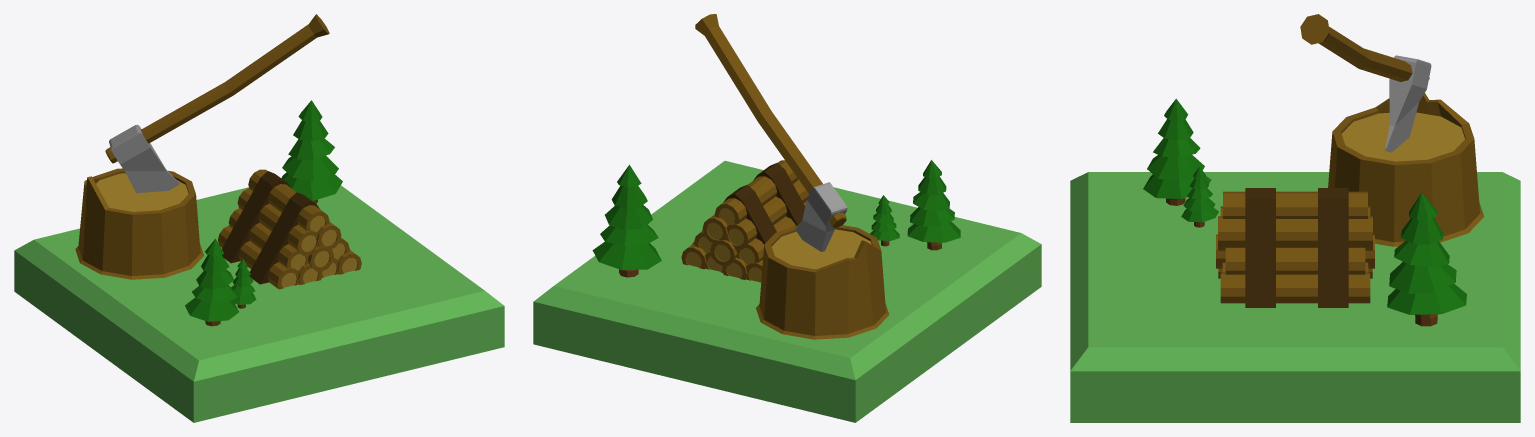
The model's file is SawMillTile.fbx.
3 renders of one model, left to right at view 1: azimuth 30°, elevation 25°; view 2: azimuth 150°, elevation 25°; view 3: azimuth 270°, elevation 25°, orthographic. The views are drawn at different scales.
Visible parts, largest first — view 1: Cube, Cylinder, Cube.001, Leaves2.002, Leaves2, Cube.002, Cube.003, Cylinder.010, Cylinder.008, Cylinder.001, Cylinder.007, Leaves2.001 (+2 smaller); view 2: Cube, Cylinder, Cube.001, Leaves2.002, Leaves2, Cylinder.010, Cylinder.008, Cube.002, Cube.003, Leaves2.001, Cylinder.007, Cylinder.006 (+1 smaller); view 3: Cube, Cylinder, Leaves2.002, Cube.001, Cube.002, Cube.003, Leaves2, Cylinder.009, Cylinder.004, Cylinder.010, Cylinder.005, Leaves2.001.
Part boxes in pixels (<box>): Cube: <box>14,185,504,422</box>; Cylinder: <box>75,168,203,279</box>; Cube.001: <box>105,14,329,193</box>; Leaves2.002: <box>281,100,342,200</box>; Leaves2: <box>185,238,238,321</box>; Cube.002: <box>249,192,349,284</box>; Cube.003: <box>222,171,290,263</box>; Cylinder.010: <box>248,169,329,232</box>; Cylinder.008: <box>237,188,318,255</box>; Cylinder.001: <box>218,225,299,289</box>; Cylinder.007: <box>228,208,308,271</box>; Leaves2.001: <box>231,259,256,304</box>; Cube: <box>533,160,1041,422</box>; Cylinder: <box>756,225,889,339</box>; Cube.001: <box>695,14,847,251</box>; Leaves2.002: <box>592,164,661,269</box>; Leaves2: <box>907,160,960,242</box>; Cylinder.010: <box>715,160,798,226</box>; Cylinder.008: <box>726,179,808,249</box>; Cube.002: <box>753,162,804,225</box>; Cube.003: <box>692,184,776,244</box>; Leaves2.001: <box>870,195,899,240</box>; Cylinder.007: <box>736,202,805,265</box>; Cylinder.006: <box>710,240,737,265</box>; Cube: <box>1070,172,1520,422</box>; Cylinder: <box>1328,93,1483,246</box>; Leaves2.002: <box>1387,193,1466,314</box>; Cube.001: <box>1300,14,1431,152</box>; Cube.002: <box>1245,188,1275,307</box>; Cube.003: <box>1318,188,1348,307</box>; Leaves2: <box>1143,98,1211,198</box>; Cylinder.009: <box>1218,216,1372,250</box>; Cylinder.004: <box>1220,272,1370,303</box>; Cylinder.010: <box>1223,191,1367,218</box>; Cylinder.005: <box>1225,247,1365,274</box>; Leaves2.001: <box>1181,167,1218,222</box>.
Bounding box in the file's own units: 600 × 520 × 600.
